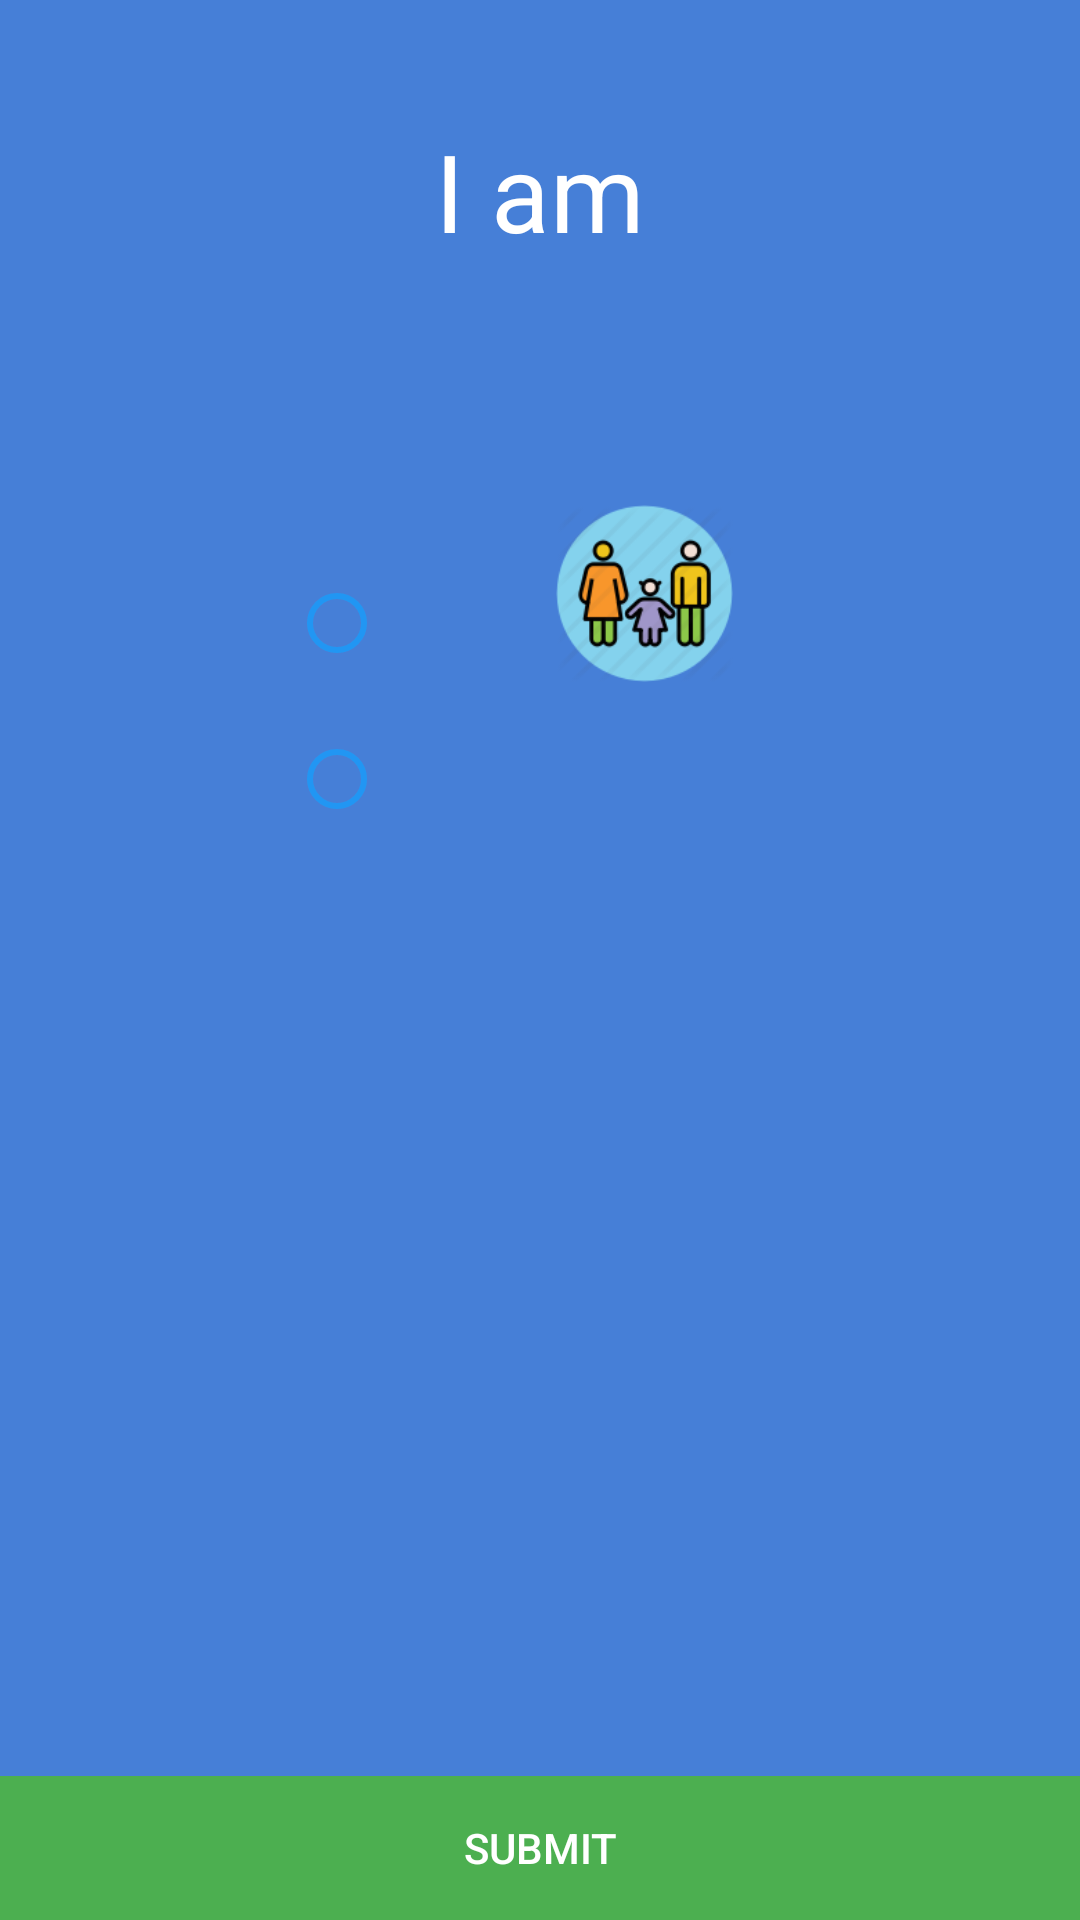

Icons on this 1080 x 1920 Android screen, each with its box as (x1, y1, x2, y2):
parents: (557, 506, 732, 681)
